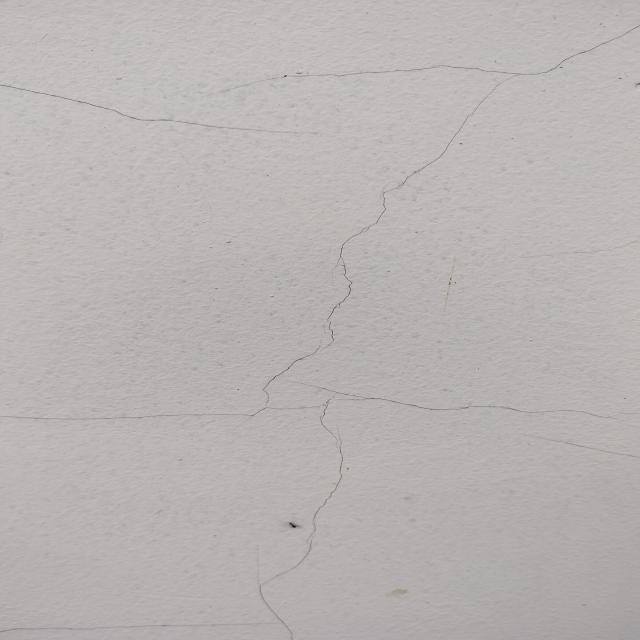Crack: (0, 23, 640, 639)
